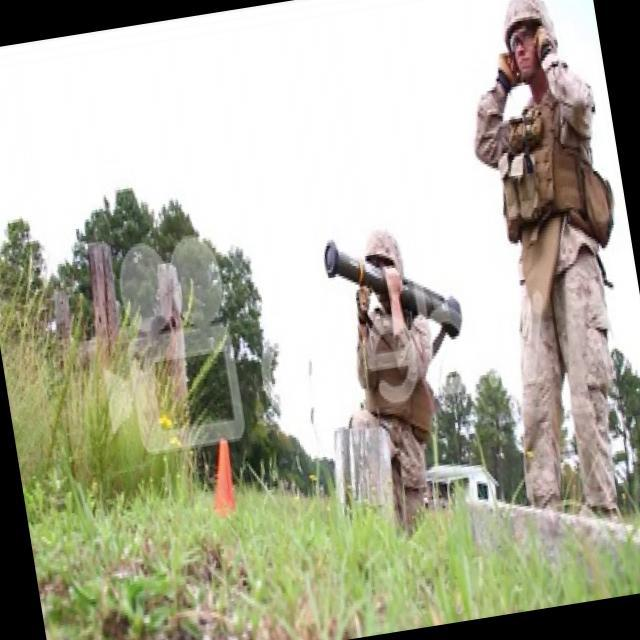rocket: (326, 224, 468, 364)
